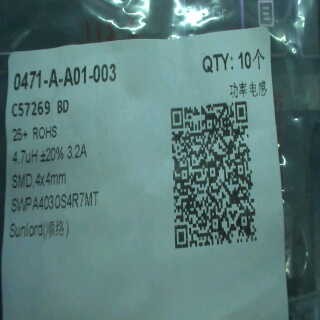4.7uH: (9, 145, 40, 167)
